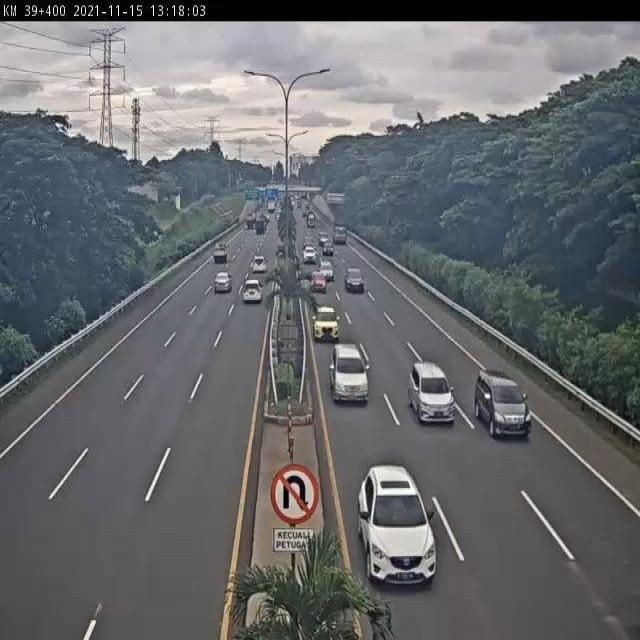car: (406, 359, 456, 424), (326, 342, 370, 410), (311, 304, 342, 343), (241, 276, 264, 305)
